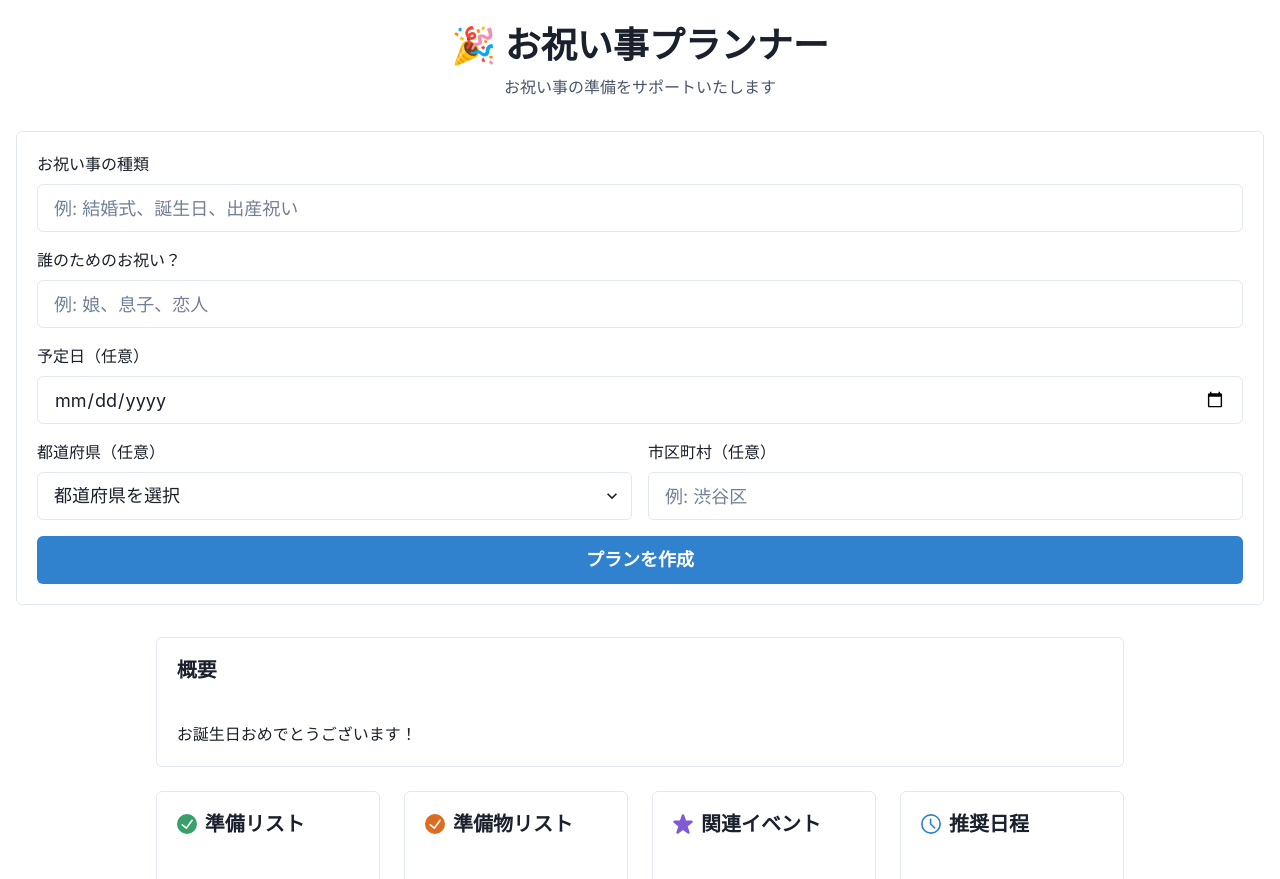
it: 準備物リストの詳細 › 関連商品の検索が機能すること
The width and height of the screenshot is (1280, 879).
Note: フォームに入力してプラン作成
In the field with placeholder "例: 結婚式、誕生日、出産祝い": (640, 208) 37,184 -> 1243,232, type "誕生日"
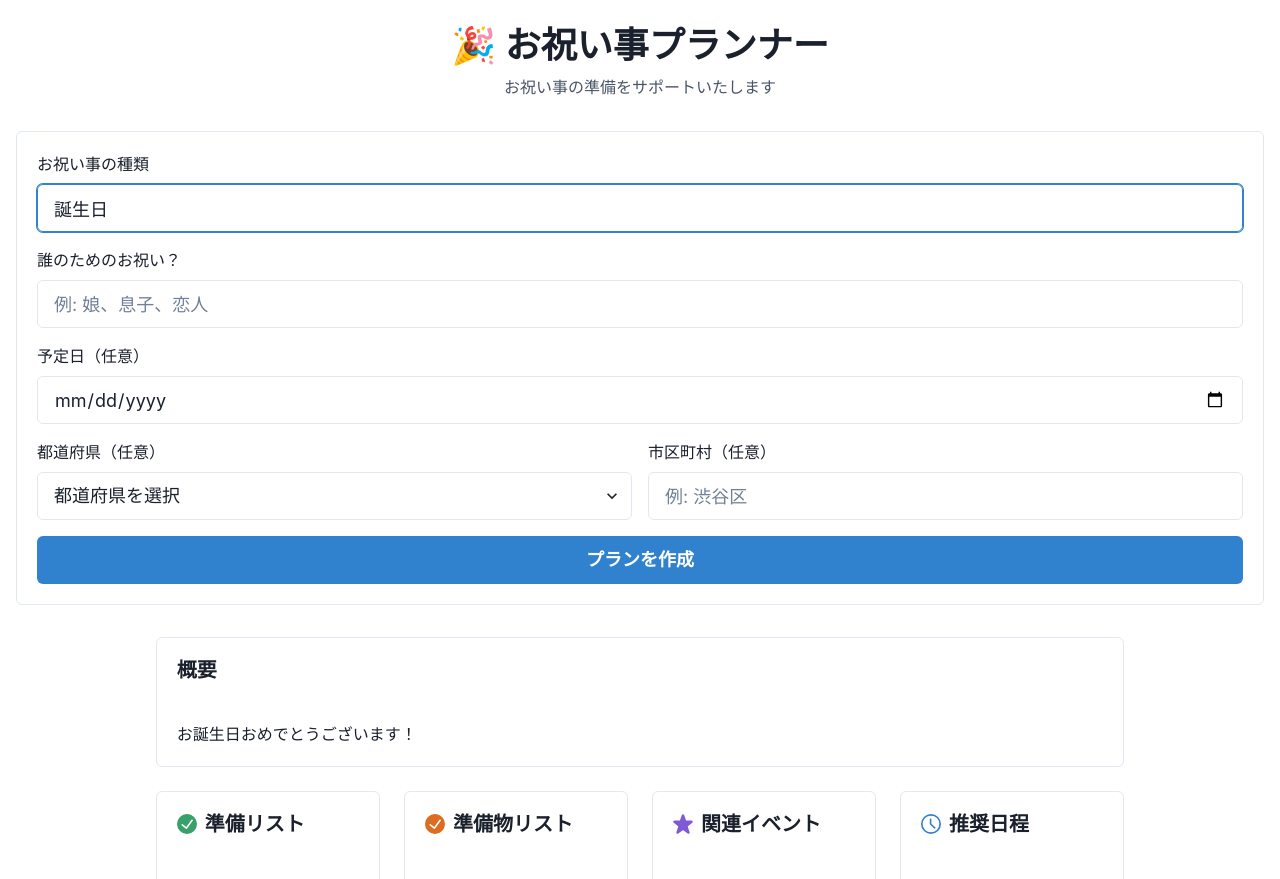
In the field with placeholder "例: 娘、息子、恋人": (640, 304) 37,280 -> 1243,328, type "娘"
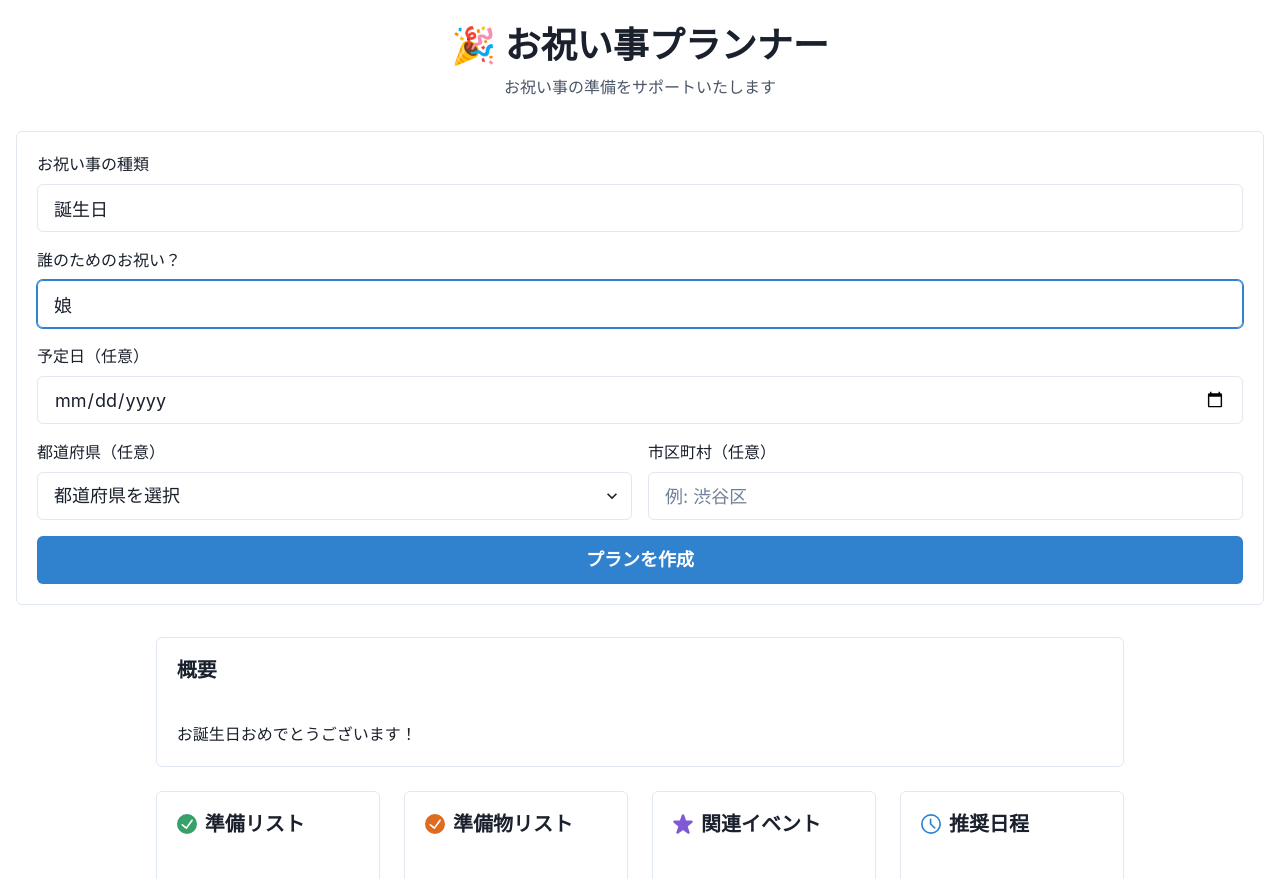
Click the button "プランを作成": (640, 560) 37,536 -> 1243,584
(page scrolled)
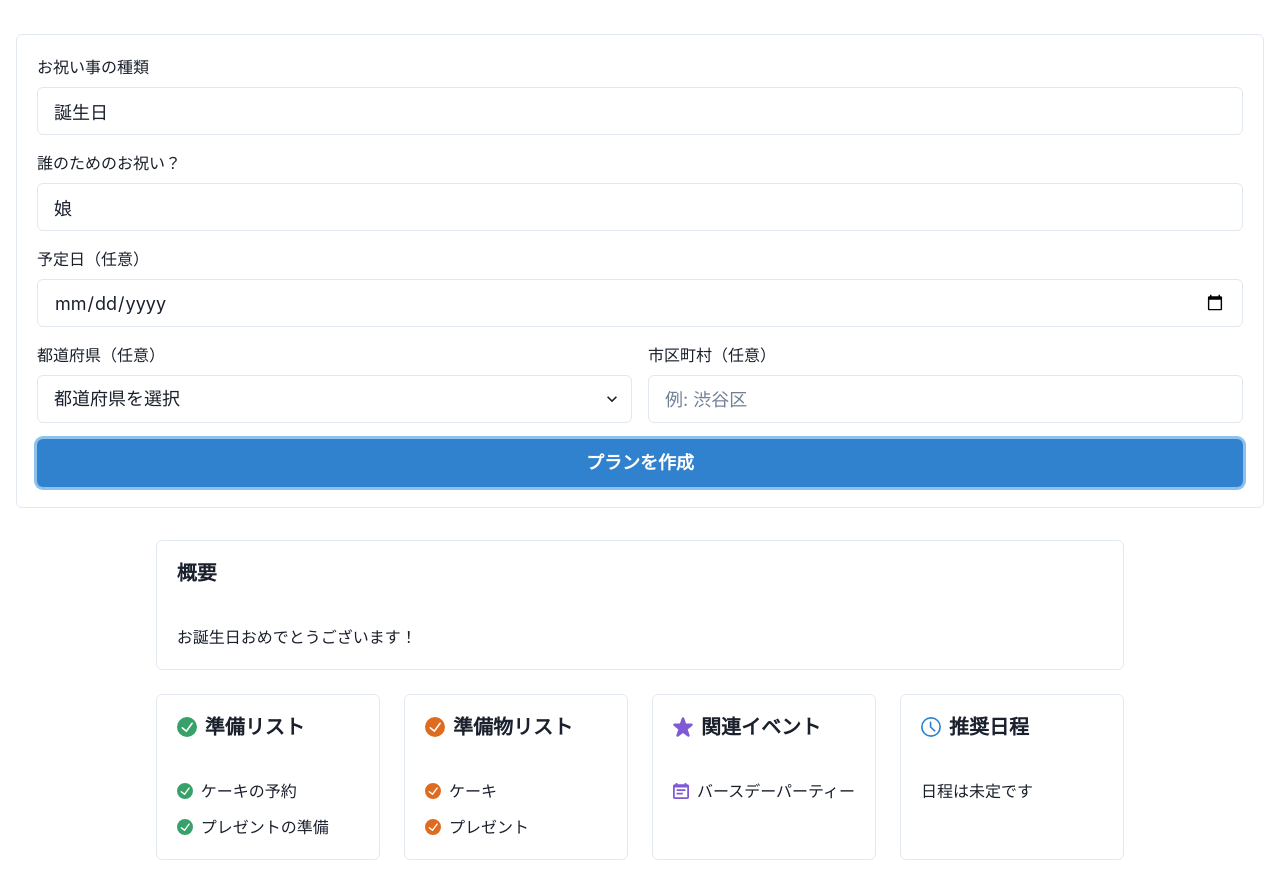
Note: 準備物リストの項目をクリック
Click the list item "ケーキ": (461, 791) 425,781 -> 497,801
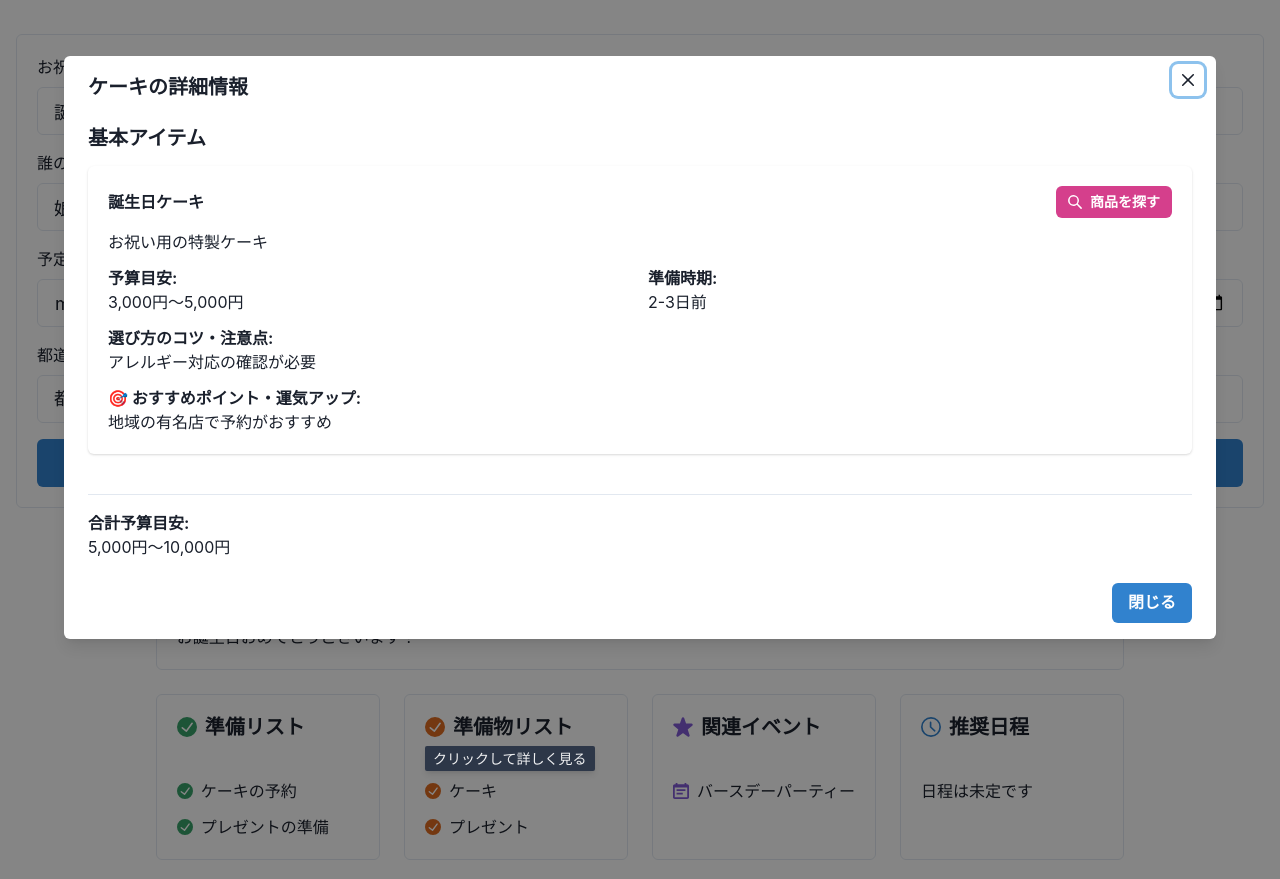
Note: 商品を検索ボタンをクリック
Click the button with test id "search-item-0": (1114, 202) 1056,186 -> 1172,218
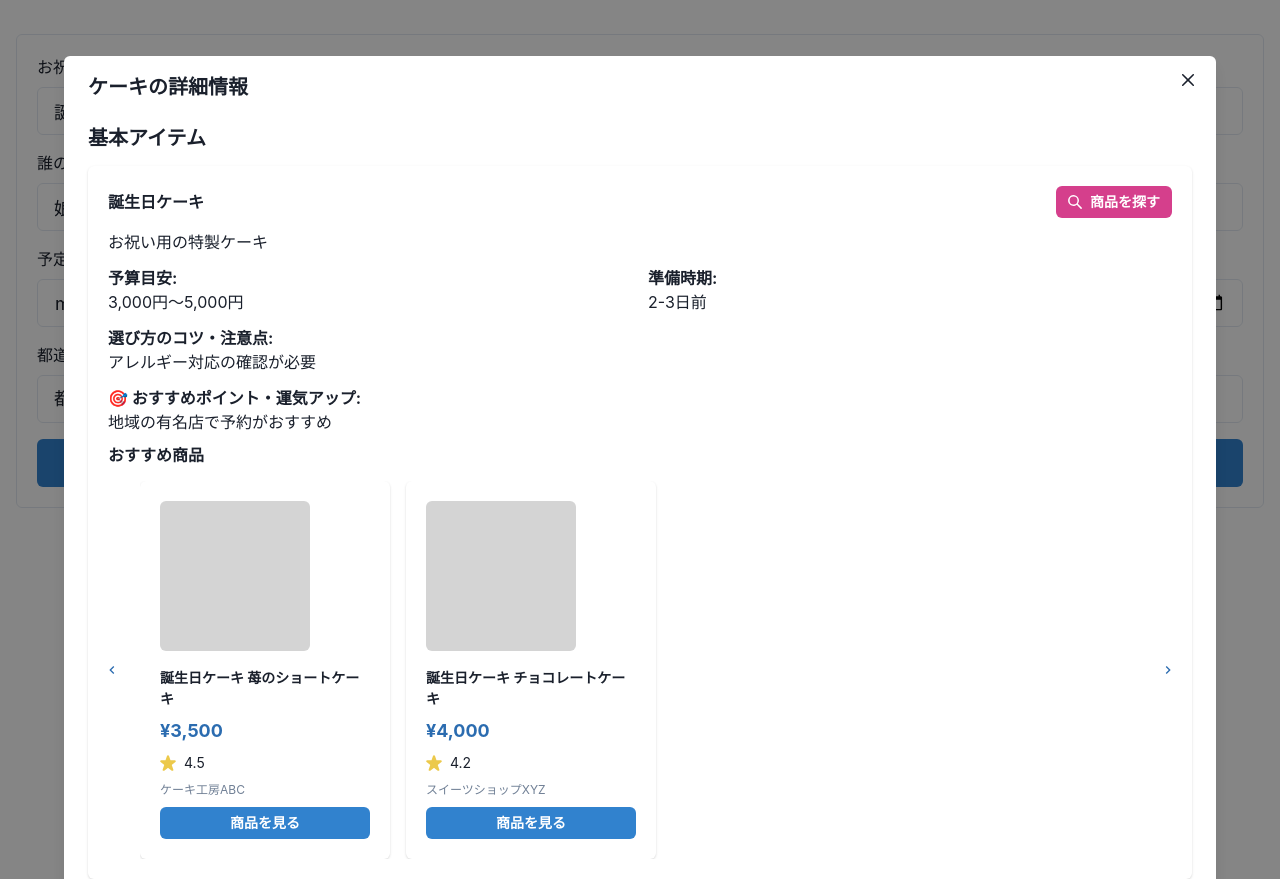
Result: the text "誕生日ケーキ 苺のショートケーキ" is shown at 160,667 -> 370,709
